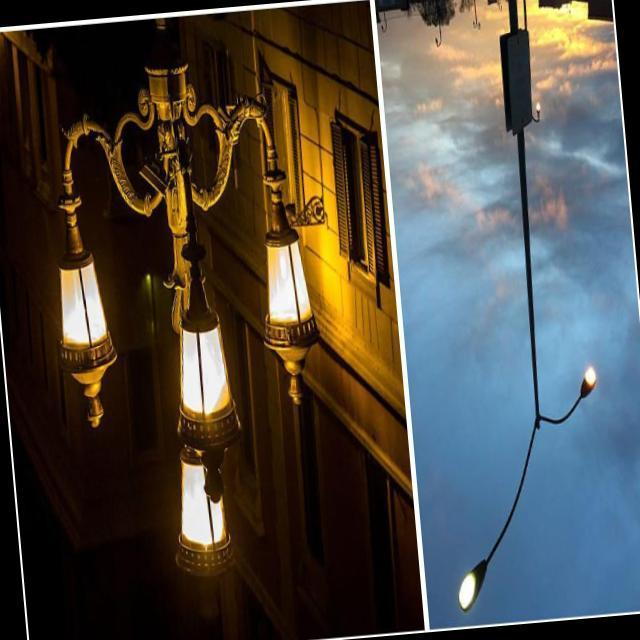on: (125, 278, 264, 552), (15, 235, 164, 412), (212, 193, 338, 392), (425, 486, 524, 634), (540, 333, 624, 438)
